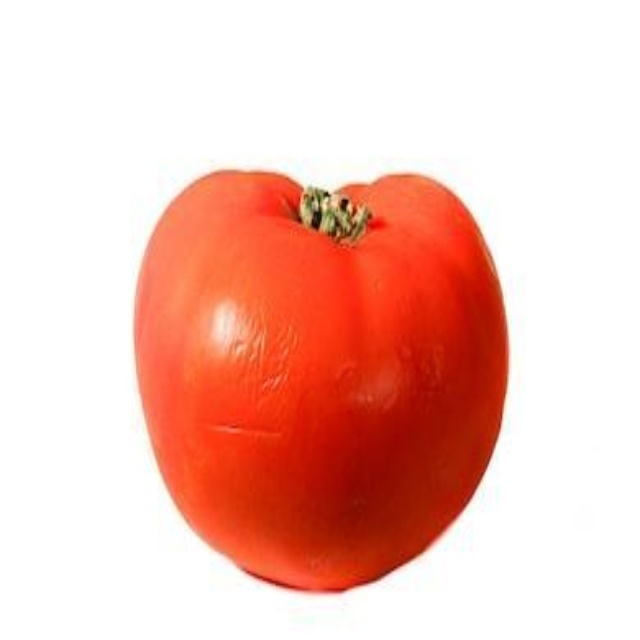tomato: (137, 164, 525, 593)
